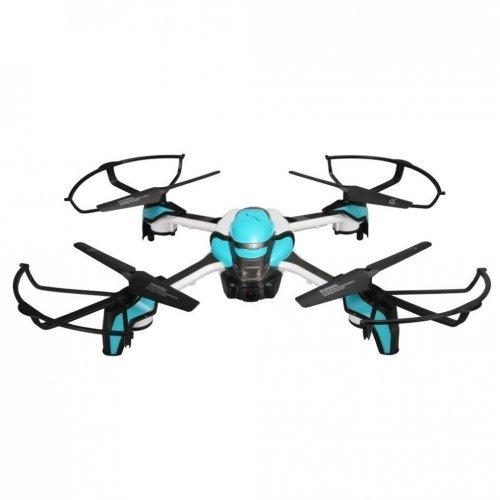drone: (10, 136, 494, 373)
